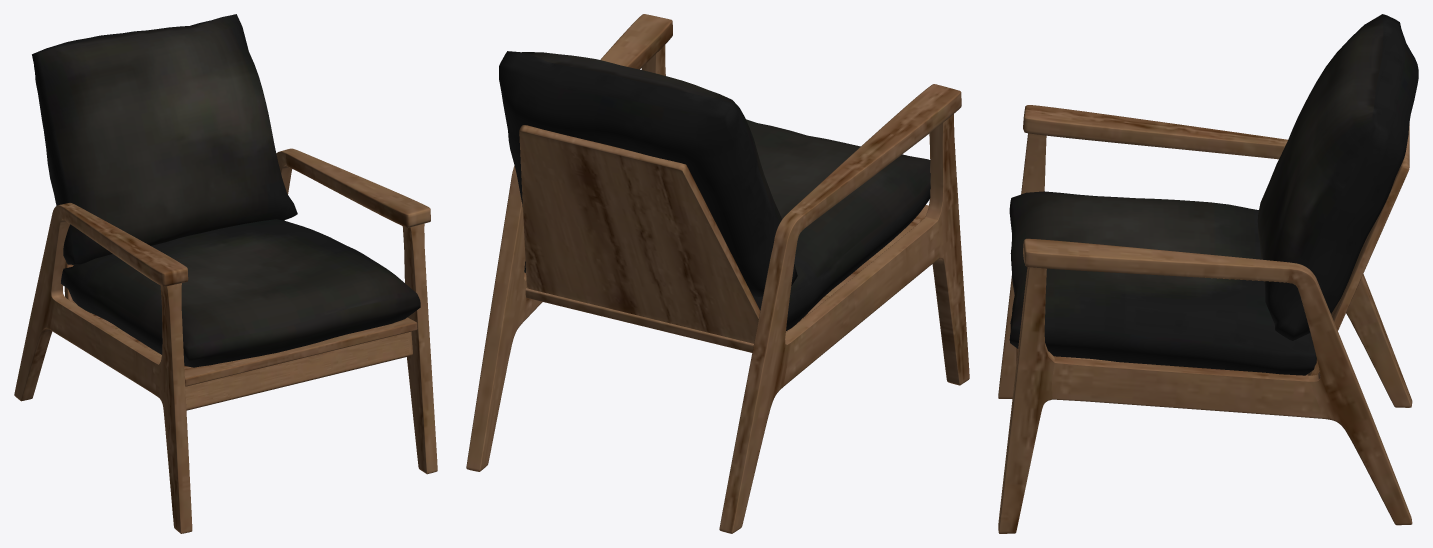
The model's file is ph-modern_arm_chair_01.glb.
The picture shows the model from 3 angles, left to right: view 1: azimuth 30°, elevation 25°; view 2: azimuth 150°, elevation 25°; view 3: azimuth 270°, elevation 25°; orthographic projection. The views are drawn at different scales.
Parts seen in each view (by area): view 1: modern_arm_chair_01; view 2: modern_arm_chair_01; view 3: modern_arm_chair_01.
Boxes of the visible parts, left/top/right/bottom form: modern_arm_chair_01: left=14, top=14, right=437, bottom=533; modern_arm_chair_01: left=466, top=14, right=969, bottom=533; modern_arm_chair_01: left=998, top=14, right=1418, bottom=533.
Size of the model in its own units: 0.802 by 1 by 0.9645.
Materials: 2 (2 with a texture image).
